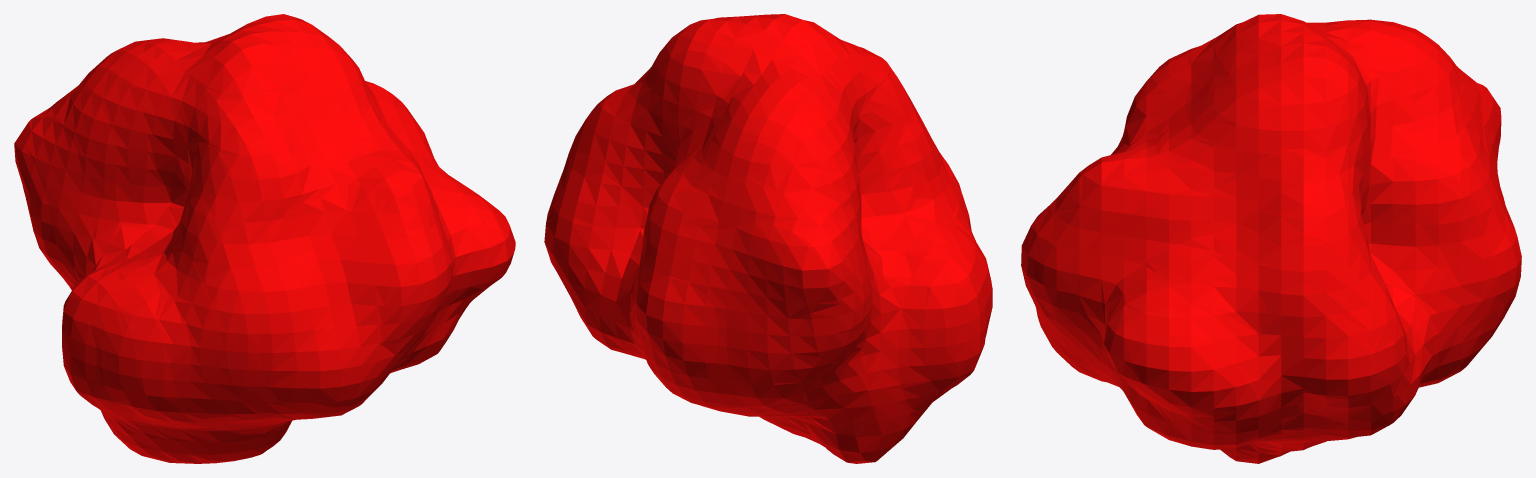
File: elaA_coarse.dae
3 views of the same model, side by side, from view 1: azimuth 30°, elevation 25°; view 2: azimuth 150°, elevation 25°; view 3: azimuth 270°, elevation 25° (orthographic). The views are drawn at different scales.
Parts seen in each view (by area): view 1: elaA; view 2: elaA; view 3: elaA.
Part boxes in pixels (left/top/right/bottom): elaA: left=14, top=14, right=515, bottom=463; elaA: left=544, top=14, right=992, bottom=463; elaA: left=1021, top=14, right=1521, bottom=463.
Bounding box in the file's own units: 44.55 × 42.74 × 43.28.
